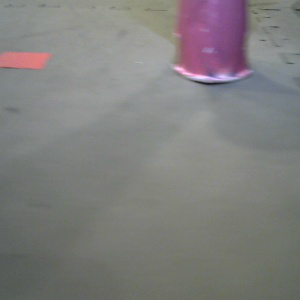right: (163, 1, 258, 87)
